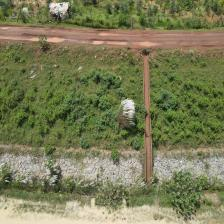rock_toe: (56, 150, 143, 183), (154, 151, 224, 184), (0, 153, 46, 182)
slope_drain: (142, 53, 153, 184)
vegetation: (0, 83, 102, 125)
